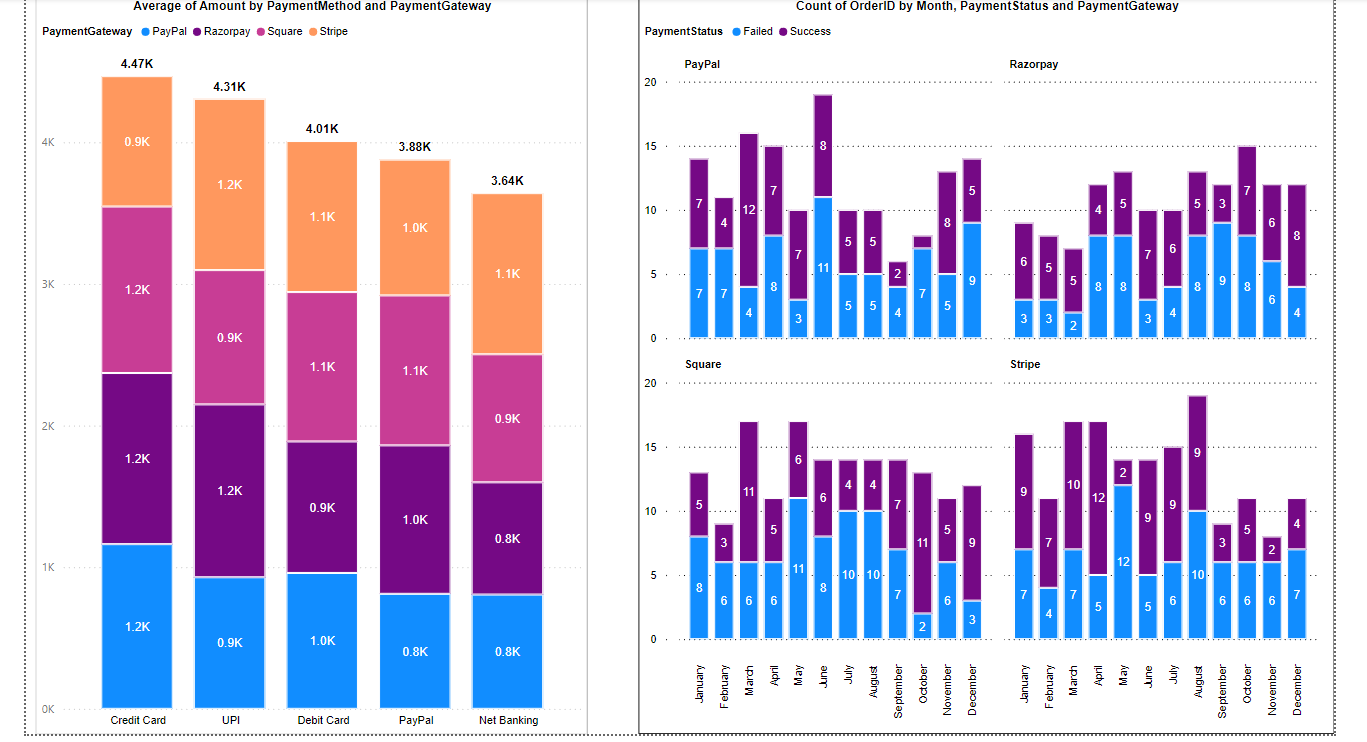

This screenshot's page, from the dashboard's own definition file:
{"tool":"powerbi","page":{"name":"Page 4","canvas":[1280,720],"ordinal":3},"visuals":[{"type":"columnChart","fields":{"Y":["Avg(ecommerce_data_payments.Amount)"],"Category":["ecommerce_data_payments.PaymentMethod"],"Series":["ecommerce_data_payments.PaymentGateway"]},"box":[9.8,0,539.3,720.2],"z":0},{"type":"columnChart","fields":{"Category":["ecommerce_data_payments.PaymentDate.Variation.Date Hierarchy.Month"],"Series":["ecommerce_data_payments.PaymentStatus"],"Y":["CountNonNull(ecommerce_data_payments.OrderID)"],"Rows":["ecommerce_data_payments.PaymentGateway"]},"box":[599.2,0,681.1,720.2],"z":1000}]}

Visuals, with their boxes on the page's 1280x720 design canvas (x1, y1, x2, y2). These are canvas units, not pixel positions in the 1367x742 screenshot, which may show the page scaled, cropped or inside an application window:
columnChart - Avg(ecommerce_data_payments.Amount) x ecommerce_data_payments.PaymentMethod: 10/0/549/720
columnChart - ecommerce_data_payments.PaymentDate.Variation.Date Hierarchy.Month x ecommerce_data_payments.PaymentStatus: 599/0/1280/720
